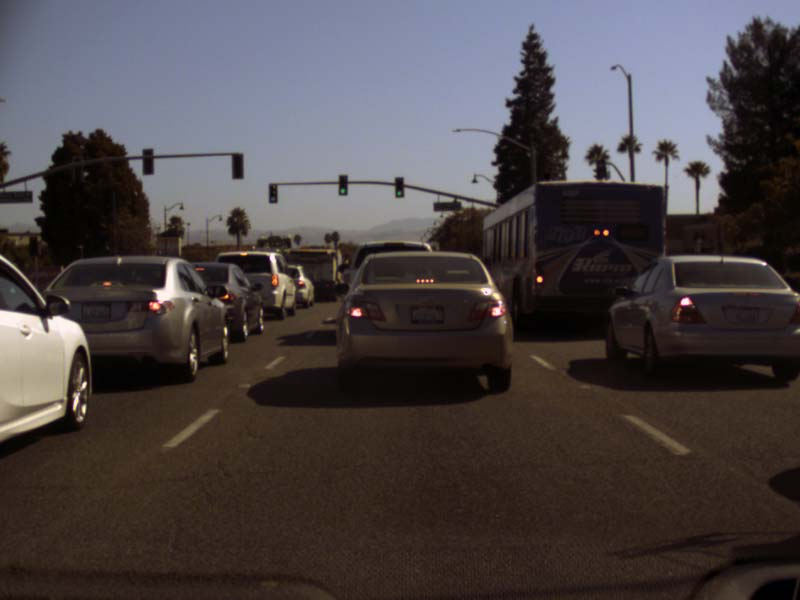Green: (338, 174, 347, 195), (395, 177, 404, 197), (268, 184, 277, 202)
